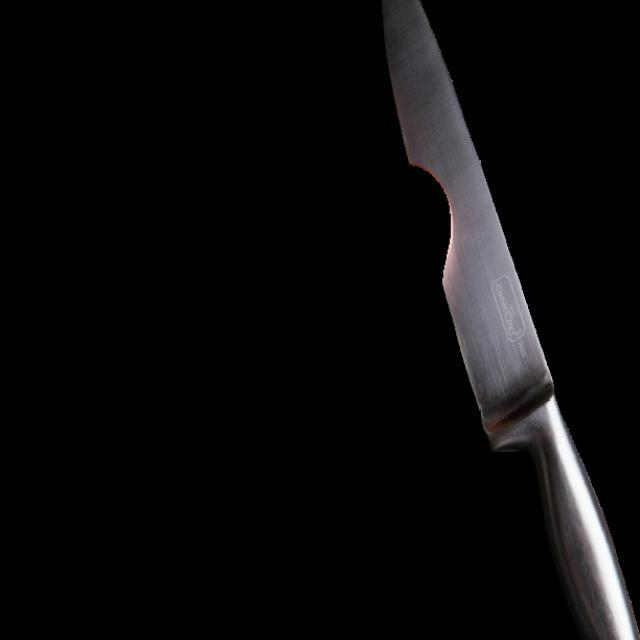knife: (383, 0, 639, 638)
